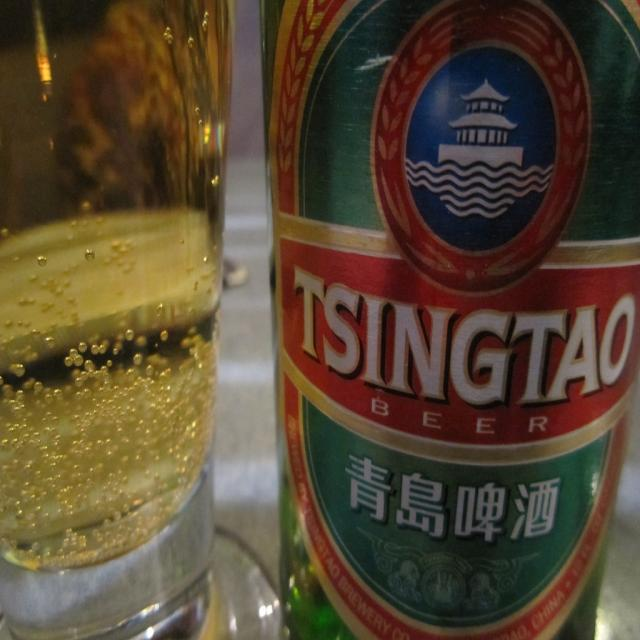tsingtao: (268, 2, 640, 640)
